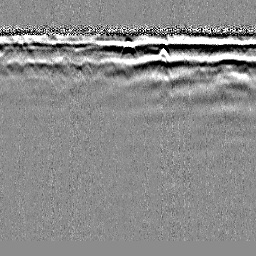cavity: (117, 39, 139, 59)
